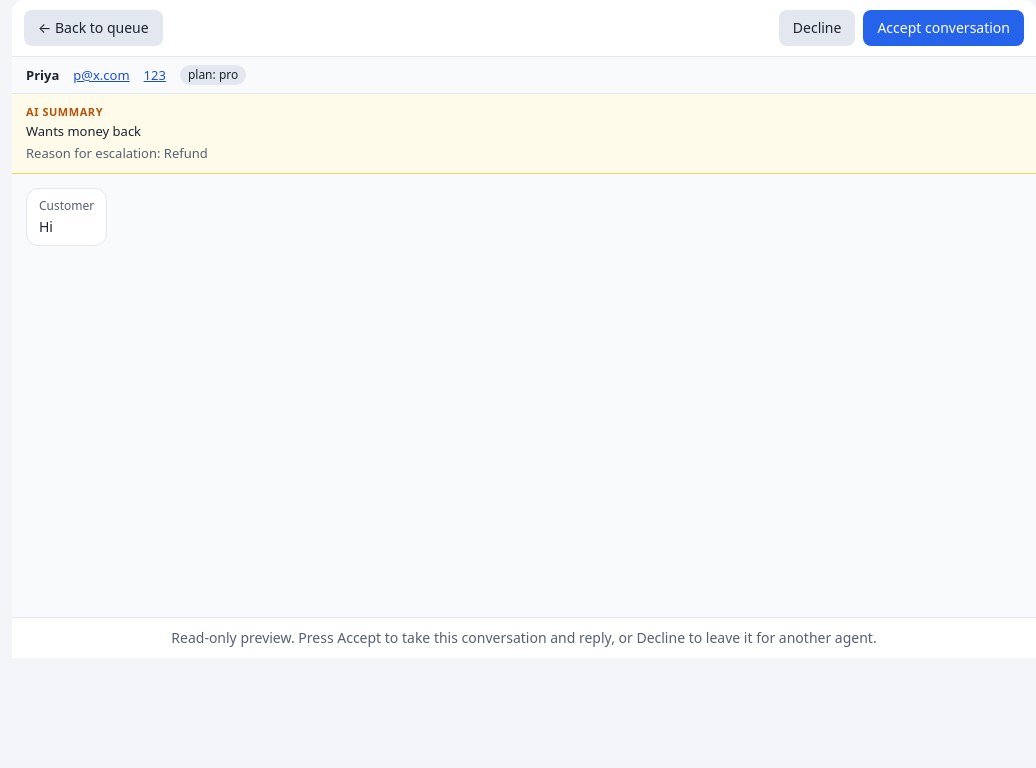
it: ConversationView (live room) accessibility › announces errors with role=alert
Click the button "Accept conversation" at [944, 28], box [863,10,1024,46]
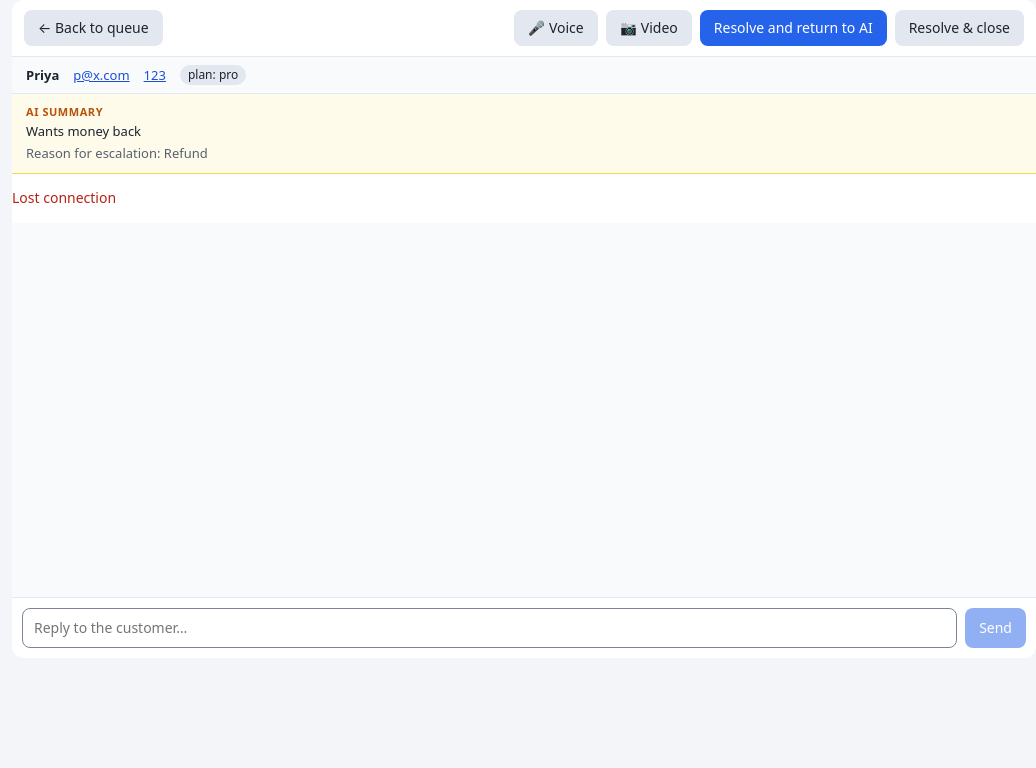
expect the field labelled "Reply to the customer" is shown: met, box [22,608,957,648]
expect the message reads "Lost connection": met, box [12,188,116,207]
